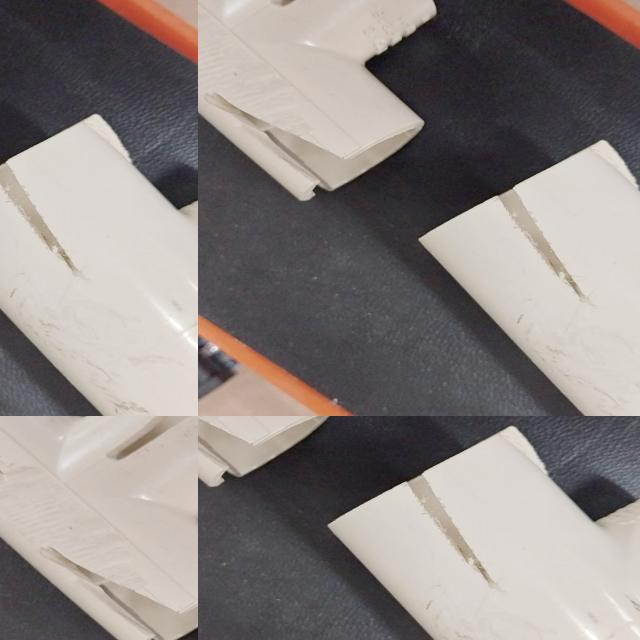Defective: (411, 480, 493, 596), (198, 416, 256, 490), (507, 431, 547, 480), (622, 590, 640, 640)
T Joint: (328, 416, 640, 640)
